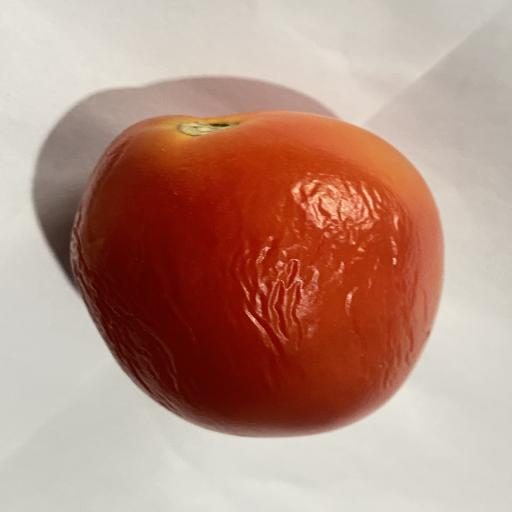spoiled: (70, 111, 443, 437)
